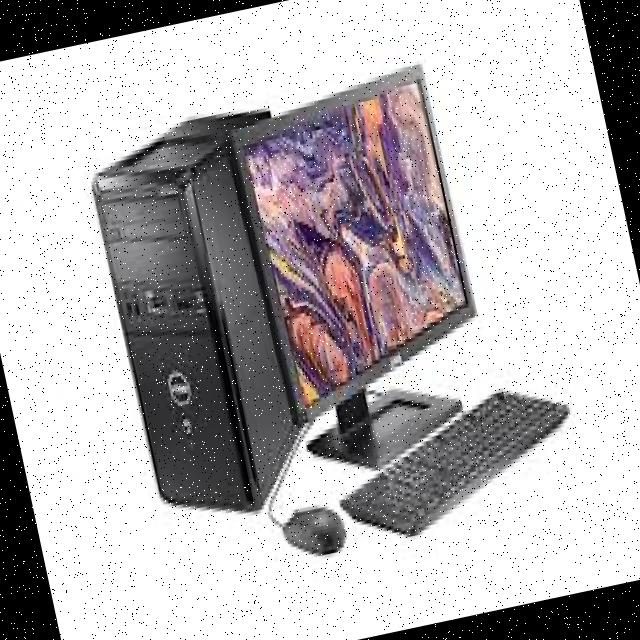Computer: (70, 106, 308, 530)
Monitor: (223, 56, 497, 430)
